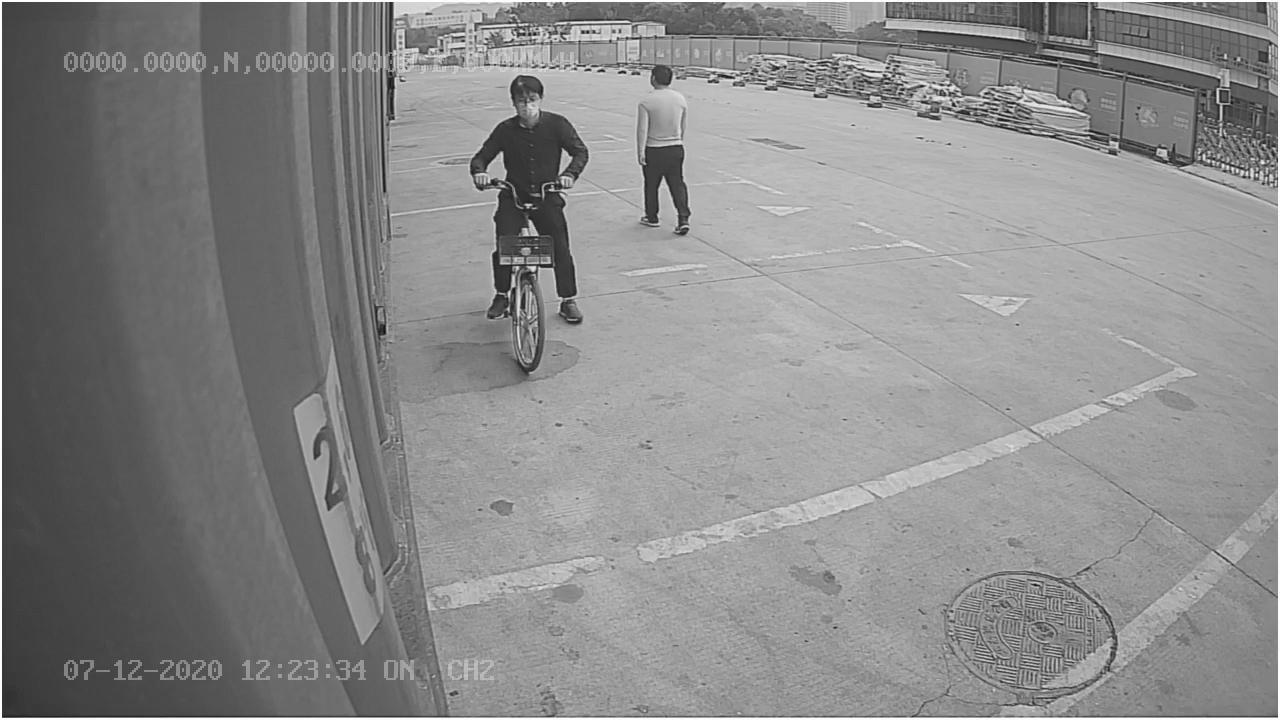person: (627, 60, 696, 241)
